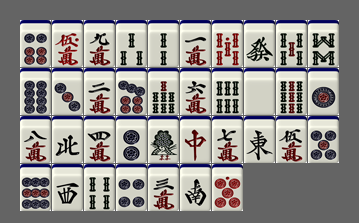0m: (52, 20, 83, 67)
0p: (212, 164, 243, 211)
0s: (212, 20, 243, 67)
1m: (180, 20, 211, 67)
1p: (308, 68, 339, 115)
1s: (148, 116, 179, 163)
1z: (244, 116, 275, 163)
2m: (84, 68, 115, 115)
2p: (116, 116, 147, 163)
2s: (148, 20, 179, 67)
2z: (180, 164, 211, 211)
3m: (148, 164, 179, 211)
3p: (52, 68, 83, 115)
3s: (116, 20, 147, 67)
3z: (52, 164, 83, 211)
4m: (84, 116, 115, 163)
4p: (116, 164, 147, 211)
4s: (84, 164, 115, 211)
4z: (52, 116, 83, 163)
5m: (276, 116, 307, 163)
5p: (308, 116, 339, 163)
5s: (276, 20, 307, 67)
5z: (244, 68, 275, 115)
6m: (180, 68, 211, 115)
6p: (20, 20, 51, 67)
6s: (212, 68, 243, 115)
6z: (244, 20, 275, 67)
7m: (212, 116, 243, 163)
7p: (116, 68, 147, 115)
7s: (148, 68, 179, 115)
7z: (180, 116, 211, 163)
8m: (20, 116, 51, 163)
8p: (20, 68, 51, 115)
8s: (308, 20, 339, 67)
9m: (84, 20, 115, 67)
9p: (20, 164, 51, 211)
9s: (276, 68, 307, 115)
